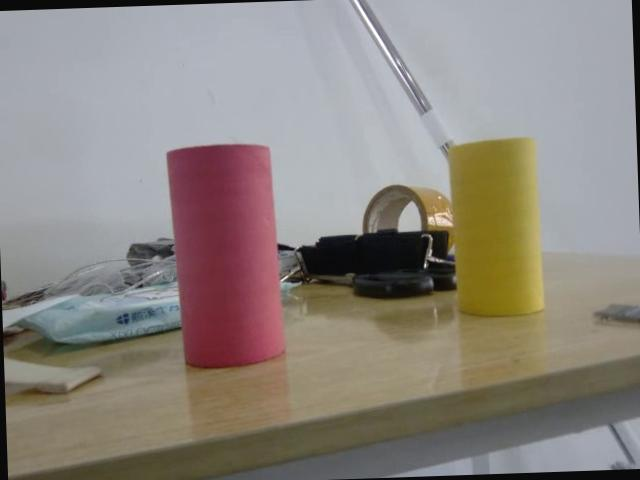red_cylinder: (162, 140, 296, 372)
yellow_cylinder: (446, 135, 556, 320)
